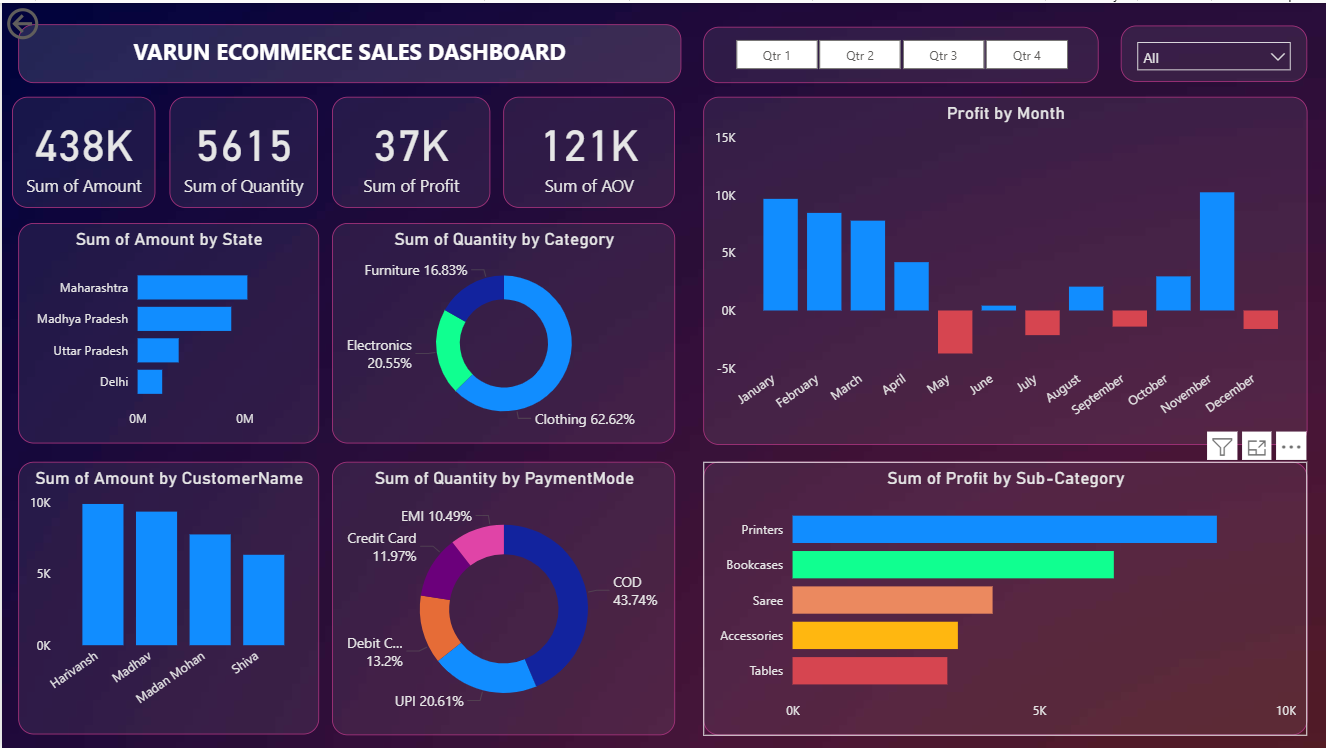

This screenshot's page, from the dashboard's own definition file:
{"tool":"powerbi","page":{"name":"Page 1","canvas":[1280,720],"ordinal":0},"visuals":[{"type":"textbox","box":[15.7,20,640,57.1],"z":0},{"type":"columnChart","title":"Profit by Month","fields":{"Category":["Orders.Order Date.Variation.Date Hierarchy.Month"],"Y":["Sum(Details.Profit)"]},"box":[677.1,90,582.9,335.7],"z":1000},{"type":"barChart","fields":{"Category":["Details.Sub-Category"],"Y":["Sum(Details.Profit)"]},"box":[677.1,442.9,582.9,264.3],"z":2000},{"type":"donutChart","fields":{"Category":["Details.Category"],"Y":["Sum(Details.Quantity)"]},"box":[318.6,212.9,331.4,212.9],"z":3000},{"type":"donutChart","fields":{"Y":["Sum(Details.Quantity)"],"Category":["Details.PaymentMode"]},"box":[318.6,442.9,331.4,264.3],"z":4000},{"type":"card","fields":{"Values":["Sum(Details.Amount)"]},"box":[10,90,138.6,107.1],"z":5000},{"type":"card","fields":{"Values":["Sum(Details.AOV)"]},"box":[484.3,90,165.7,107.1],"z":6000},{"type":"card","fields":{"Values":["Sum(Details.Quantity)"]},"box":[161.4,90,142.9,107.1],"z":7000},{"type":"card","fields":{"Values":["Sum(Details.Profit)"]},"box":[318.6,90,152.9,107.1],"z":8000},{"type":"actionButton","box":[0,0,100,40],"z":9000},{"type":"barChart","fields":{"Category":["Orders.State"],"Y":["Sum(Details.Amount)"]},"box":[15.7,212.9,290,212.9],"z":10000},{"type":"columnChart","fields":{"Category":["Orders.CustomerName"],"Y":["Sum(Details.Amount)"]},"box":[15.7,442.9,290,262.9],"z":11000},{"type":"slicer","fields":{"Values":["Orders.Order Date.Variation.Date Hierarchy.Quarter"]},"box":[677.1,22.9,381.4,54.3],"z":12000},{"type":"slicer","fields":{"Values":["Orders.State"]},"box":[1080,21.4,180,54.3],"z":13000}]}

Visuals, with their boxes in screenshot pixels (x1, y1, x2, y2), scaled from the page's 1280x720 canvas onto the 1326x748 screenshot:
textbox: select_region(16, 21, 679, 80)
"Profit by Month" columnChart: select_region(701, 94, 1305, 442)
barChart - Details.Sub-Category x Sum(Details.Profit): select_region(701, 460, 1305, 735)
donutChart - Details.Category x Sum(Details.Quantity): select_region(330, 221, 673, 442)
donutChart - Sum(Details.Quantity) x Details.PaymentMode: select_region(330, 460, 673, 735)
card - Sum(Details.Amount): select_region(10, 94, 154, 205)
card - Sum(Details.AOV): select_region(502, 94, 673, 205)
card - Sum(Details.Quantity): select_region(167, 94, 315, 205)
card - Sum(Details.Profit): select_region(330, 94, 488, 205)
actionButton: select_region(0, 0, 104, 42)
barChart - Orders.State x Sum(Details.Amount): select_region(16, 221, 317, 442)
columnChart - Orders.CustomerName x Sum(Details.Amount): select_region(16, 460, 317, 733)
slicer - Orders.Order Date.Variation.Date Hierarchy.Quarter: select_region(701, 24, 1097, 80)
slicer - Orders.State: select_region(1119, 22, 1305, 79)
